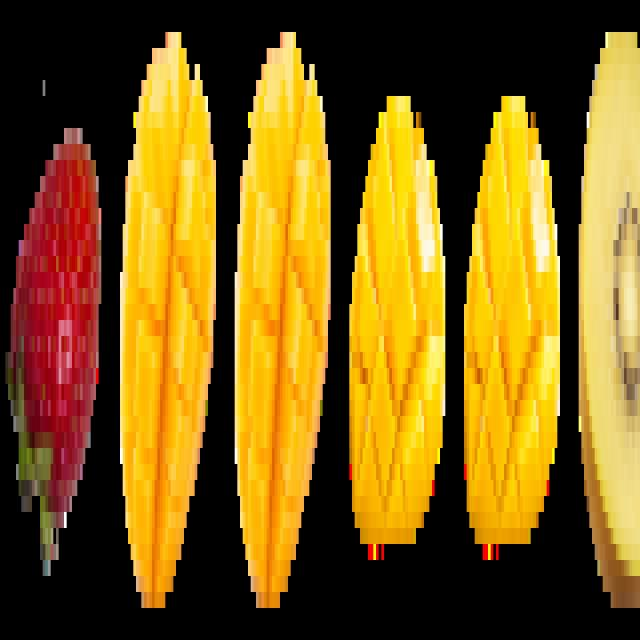mango: (118, 19, 218, 612), (232, 35, 332, 617), (347, 64, 447, 563)
strawberry: (3, 122, 103, 571)
